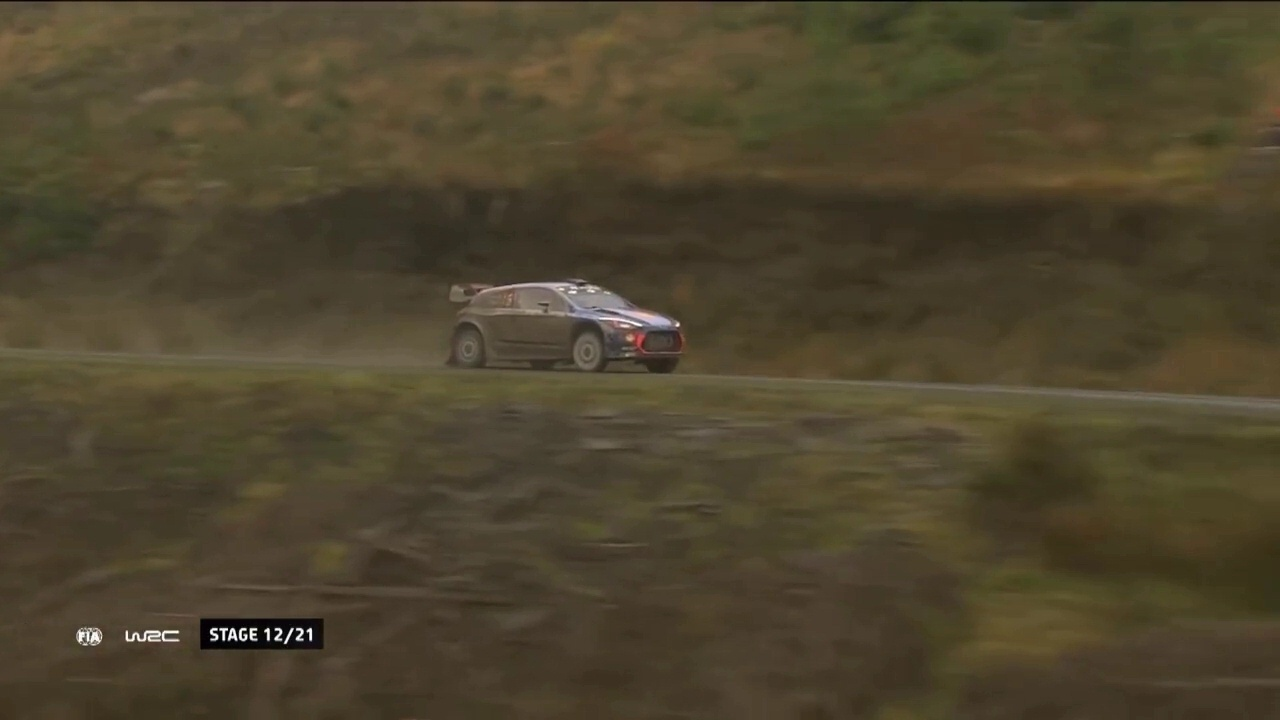araba: (444, 275, 692, 374)
